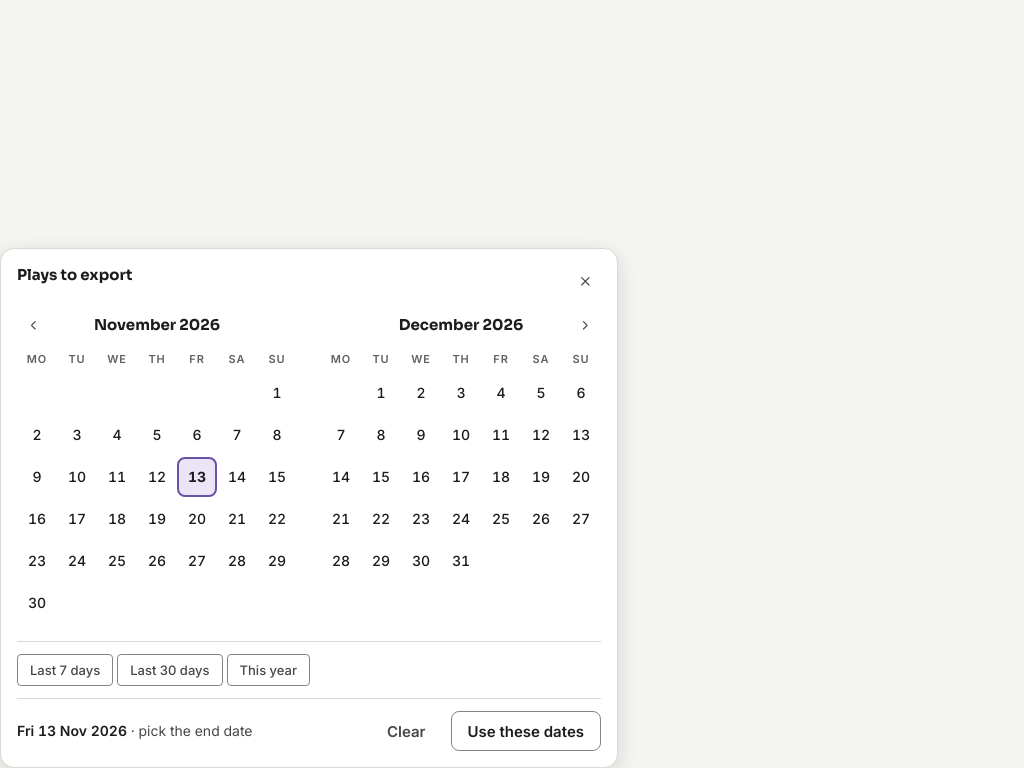
Test: DateRange › swaps the ends when the second pick is before From
(page scrolled)
Click the button "9" below "November" at (37, 477), box [17, 457, 57, 497]
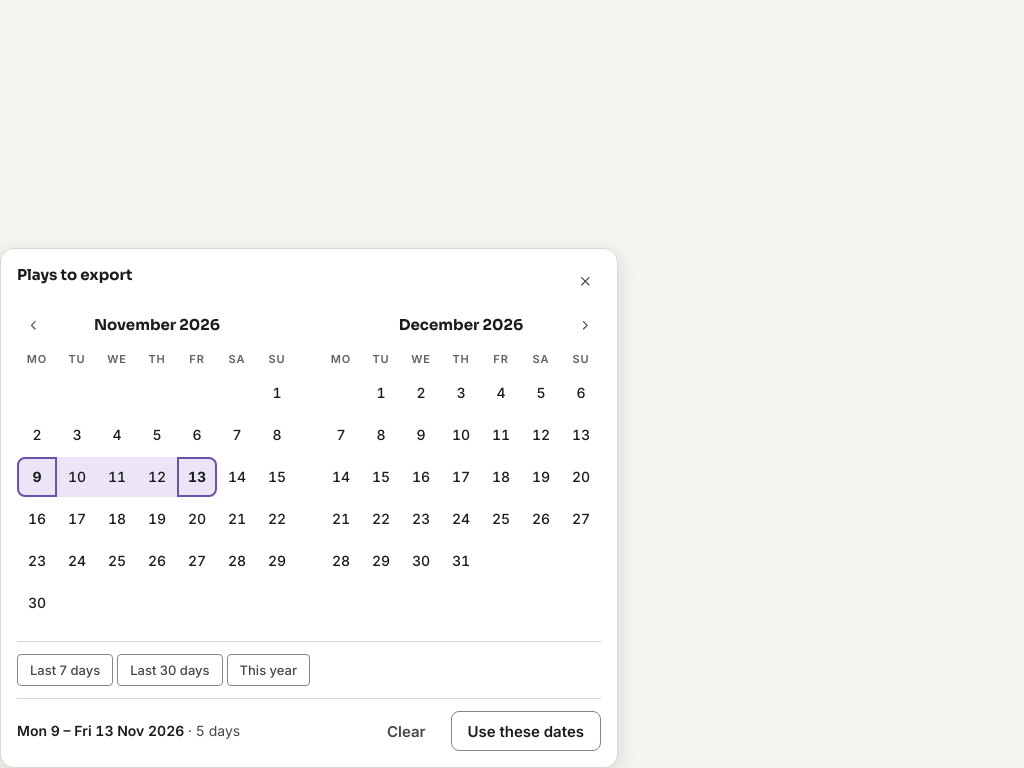
Expected: the element with class "sn-date-range__sum" reads "Mon 9 – Fri 13 Nov 2026 · 5 days", [17, 722, 240, 739]
